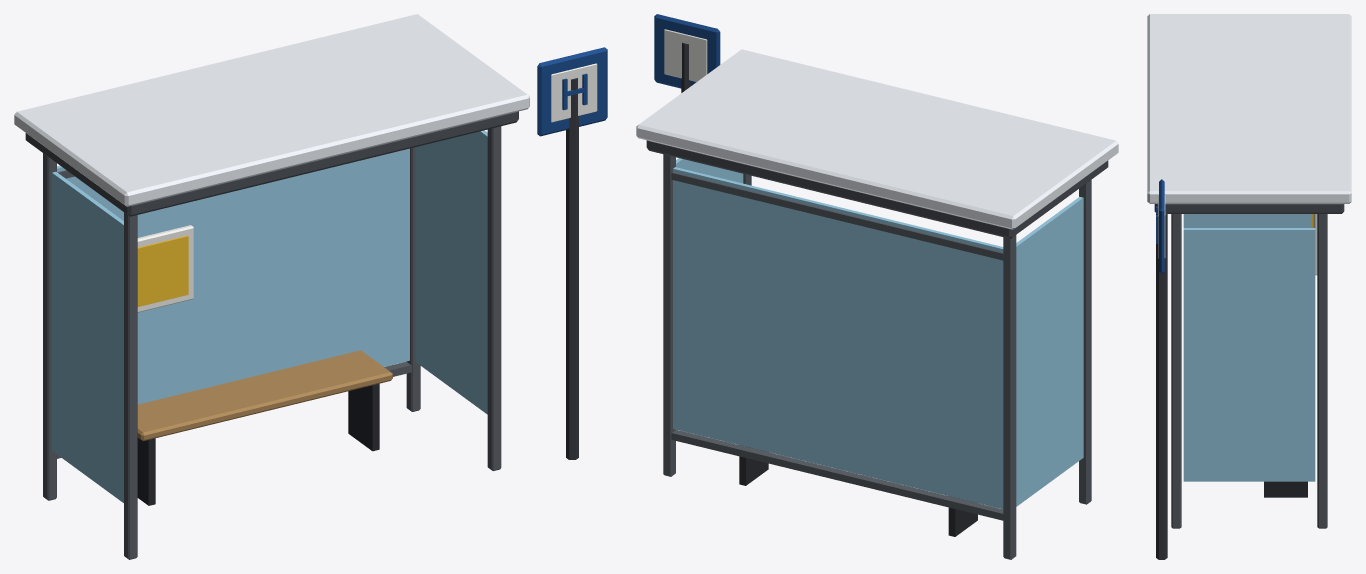
File: bus_stop.glb
3 renders of one model, left to right at view 1: azimuth 30°, elevation 25°; view 2: azimuth 150°, elevation 25°; view 3: azimuth 270°, elevation 25°, orthographic. The views are drawn at different scales.
Parts seen in each view (by area): view 1: bus_stop; view 2: bus_stop; view 3: bus_stop.
Part boxes in pixels (x1,y1,x2,y2): bus_stop: (14, 14, 607, 559); bus_stop: (636, 14, 1118, 559); bus_stop: (1147, 14, 1351, 559).
Size of the model in its own units: 3.5 by 2.75 by 1.4.
